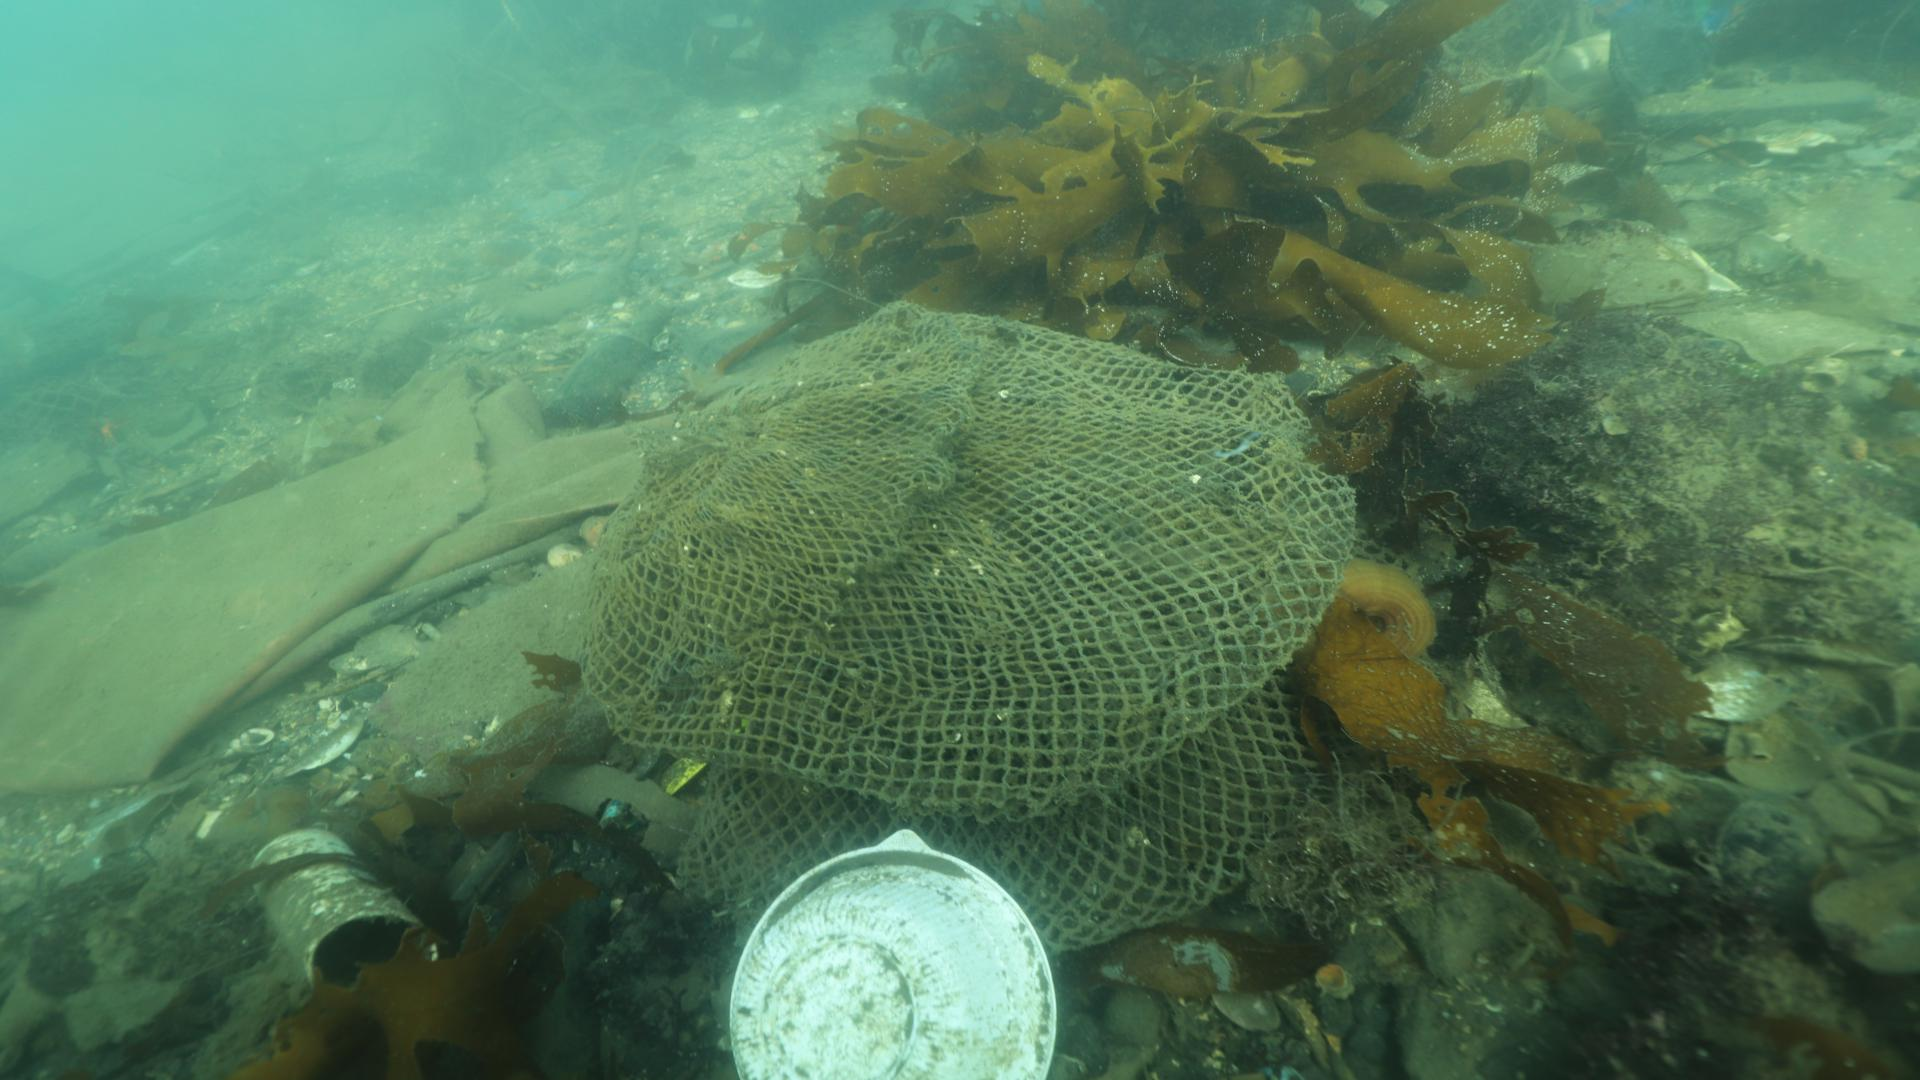fish net: (583, 298, 1358, 953)
